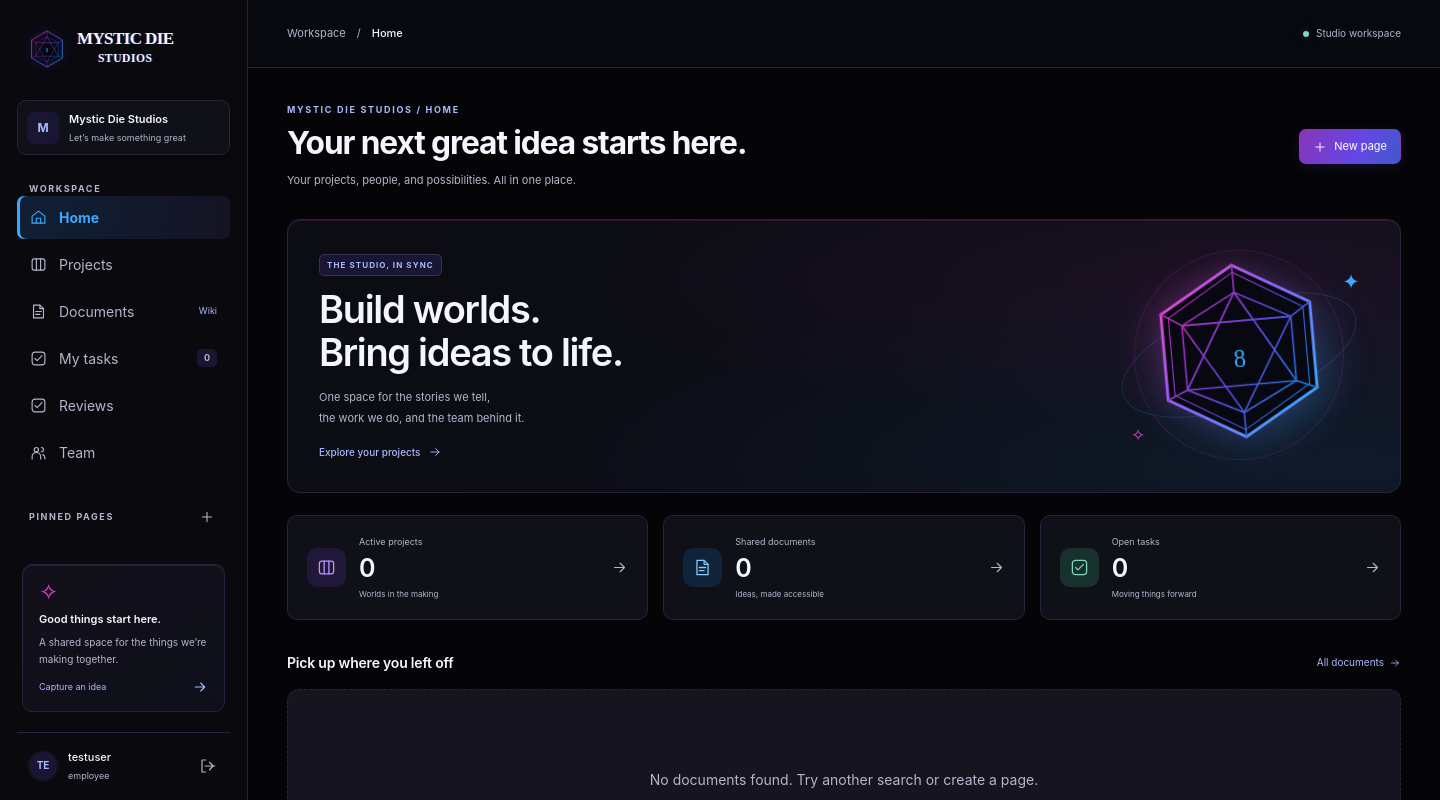
Test: Authenticated studio platform › loads the team when an administrator has no linked GitHub username
The width and height of the screenshot is (1440, 800).
Click the button "Team".
click(124, 453)  # box [17, 431, 230, 474]
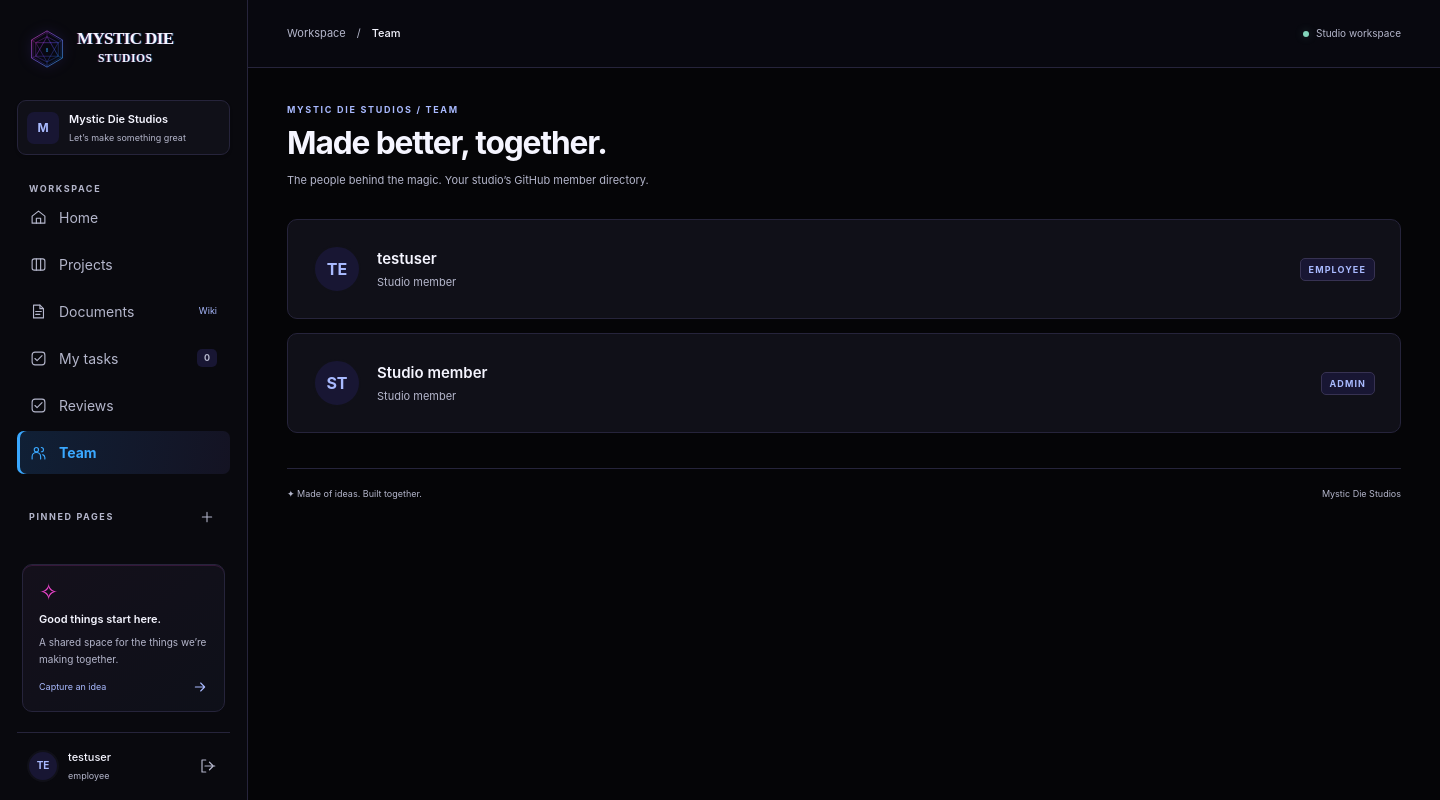
Result: the number of elements with class "team-panel" is 2 at [287, 219, 1401, 319]; [287, 333, 1401, 433]
Result: the text "testuser" is shown at [377, 249, 437, 268]
Result: the text "admin" is shown at [1320, 372, 1375, 395]
